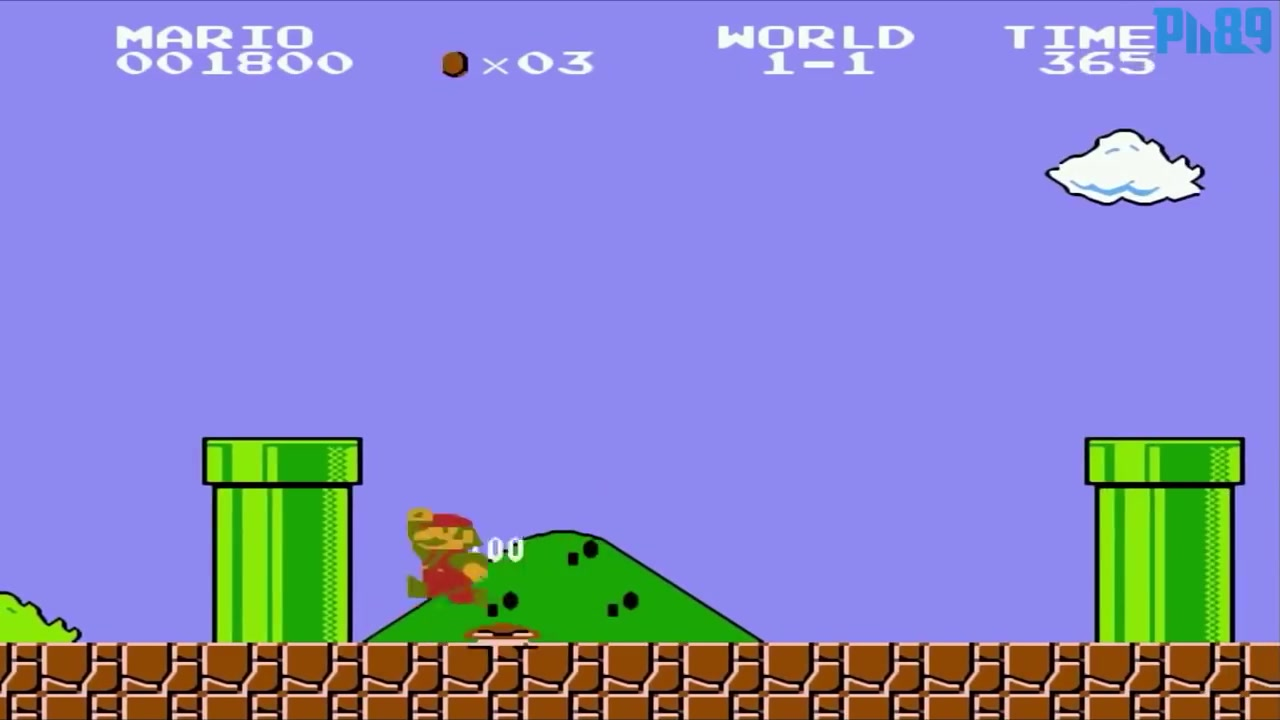mario: (405, 490, 488, 606)
